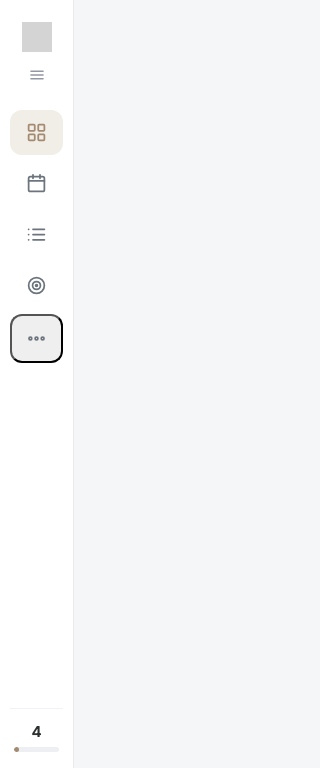
on a phone › keeps the other seven one tap away behind More
This screenshot has width=320, height=768.
Click the button named "More".
click(36, 338)  # box x1=10 y1=314 x2=63 y2=363
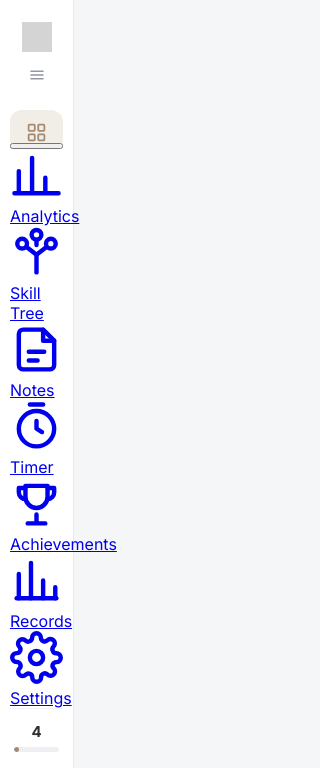
Expected: the menu item "Analytics" is shown, x1=10 y1=186 x2=79 y2=226
Expected: the menu item "Skill Tree" is shown, x1=10 y1=263 x2=63 y2=323
Expected: the menu item "Notes" is shown, x1=10 y1=360 x2=63 y2=400
